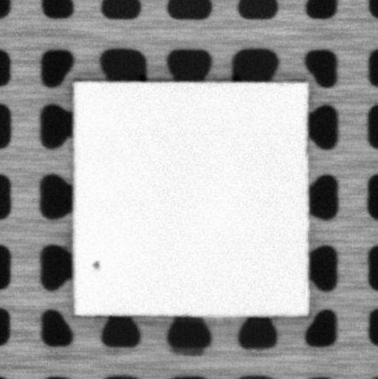DIE_INK: (90, 259, 101, 271)
